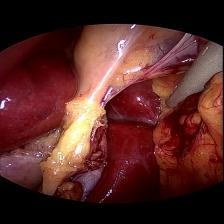Irrigator: (158, 44, 216, 108)
